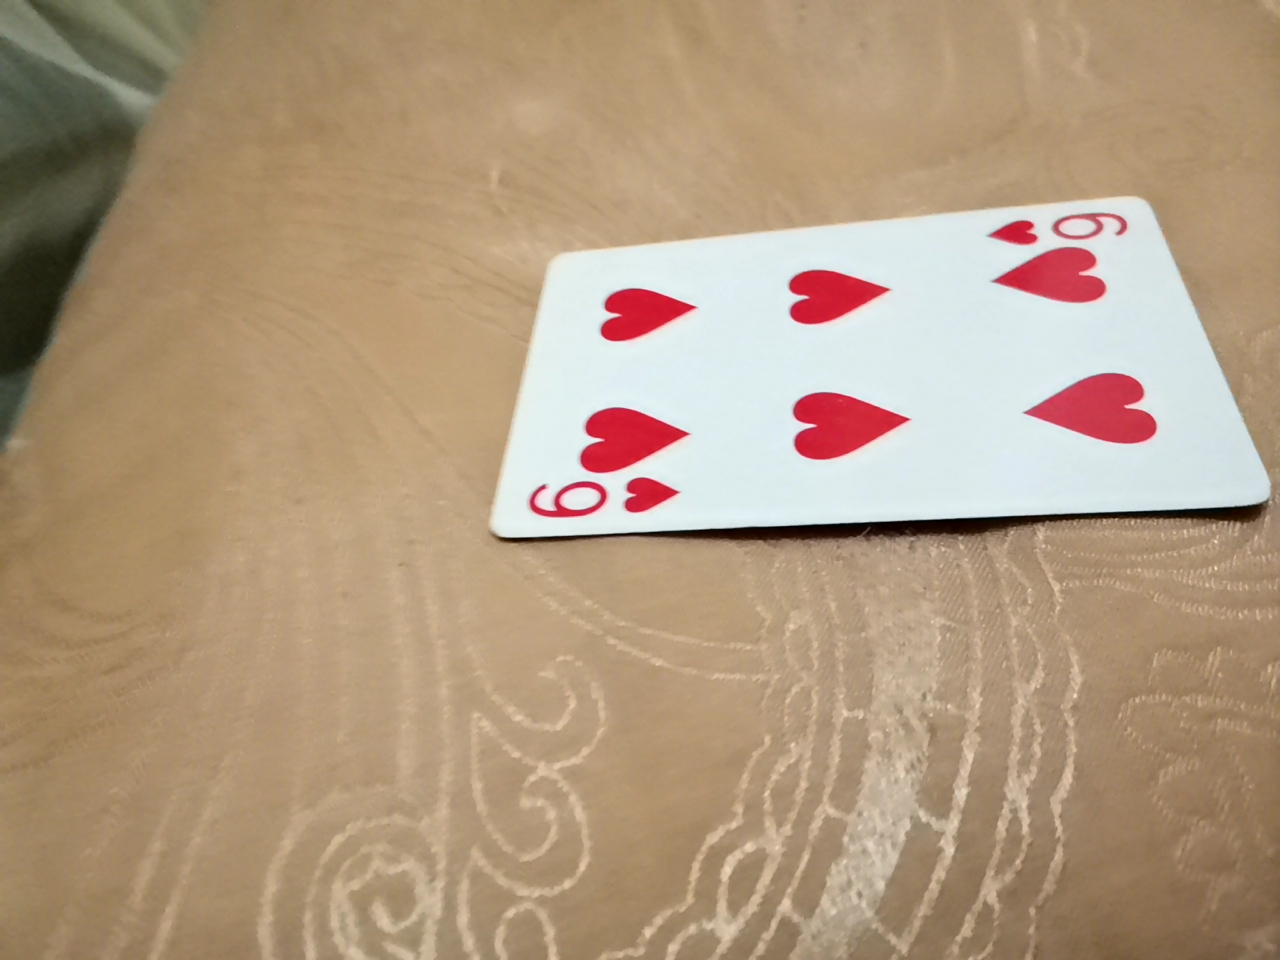hx 6: (455, 276, 1238, 622)
